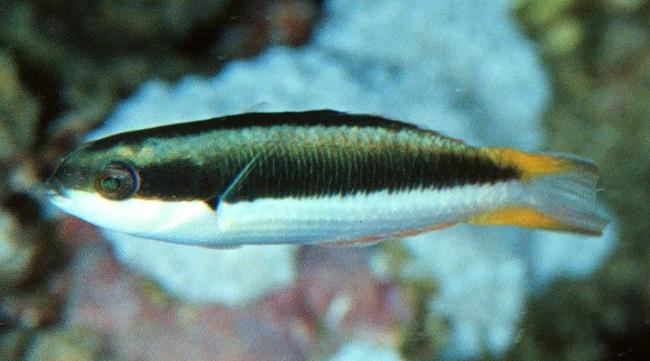fish: (43, 102, 610, 249)
